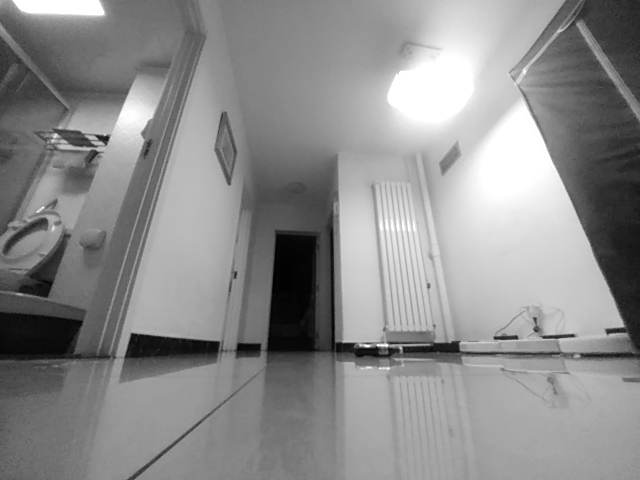others: (353, 341, 404, 358)
